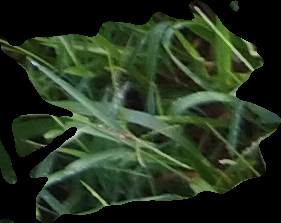grass: (1, 1, 280, 221)
